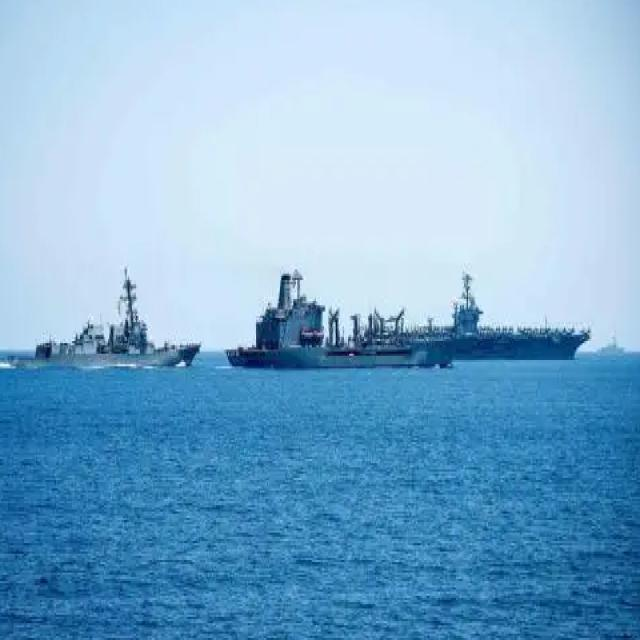navalvessels: (220, 277, 437, 393), (2, 254, 204, 365), (417, 259, 598, 362)
